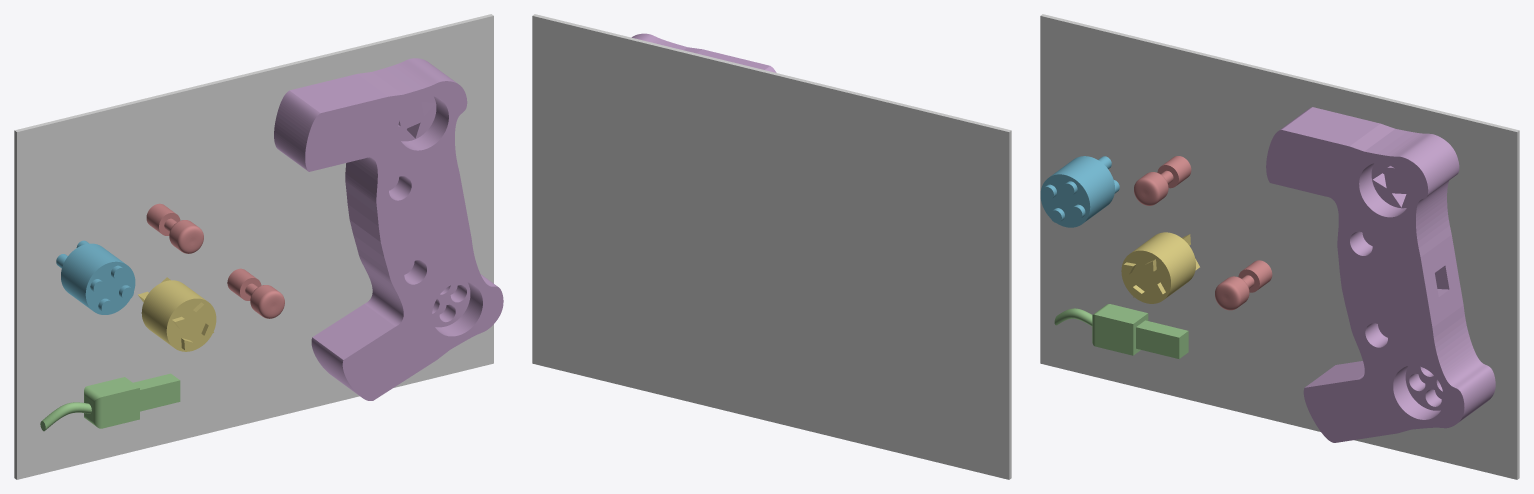
File: pickup_layout.glb
3 views of the same model, side by side, from view 1: azimuth 30°, elevation 25°; view 2: azimuth 150°, elevation 25°; view 3: azimuth 330°, elevation 25° (orthographic).
Parts seen in each view (by area): view 1: world, 3.obj, 4.obj, 2.obj, 1.obj, 5.obj, 0.obj; view 2: world, 3.obj; view 3: world, 3.obj, 4.obj, 2.obj, 1.obj, 5.obj, 0.obj.
Part boxes in pixels (x1,y1,x2,y2): world: (14,14,493,479); 3.obj: (274,58,503,400); 4.obj: (40,373,180,431); 2.obj: (56,240,135,314); 1.obj: (138,277,216,351); 5.obj: (227,268,284,318); 0.obj: (146,203,203,253); world: (532,14,1011,479); 3.obj: (631,33,776,72); world: (1040,14,1519,479); 3.obj: (1266,107,1495,442); 4.obj: (1054,304,1188,358); 2.obj: (1040,156,1119,227); 1.obj: (1121,232,1199,303); 5.obj: (1215,260,1272,310); 0.obj: (1134,156,1191,205).
Bounding box in the file's own units: 22.09 × 15.39 × 3.2.
